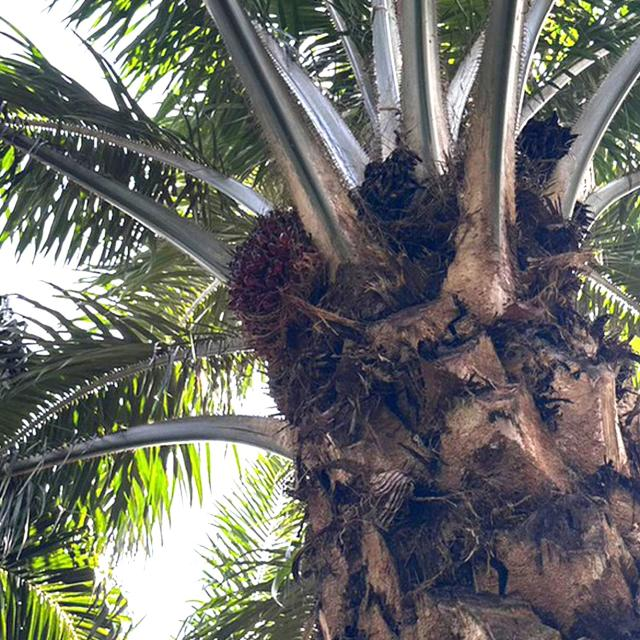ripe: (228, 200, 322, 347)
